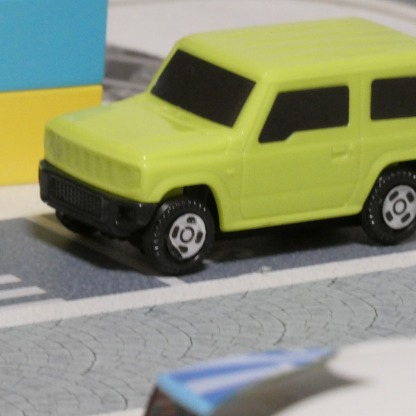car: (35, 15, 416, 272)
